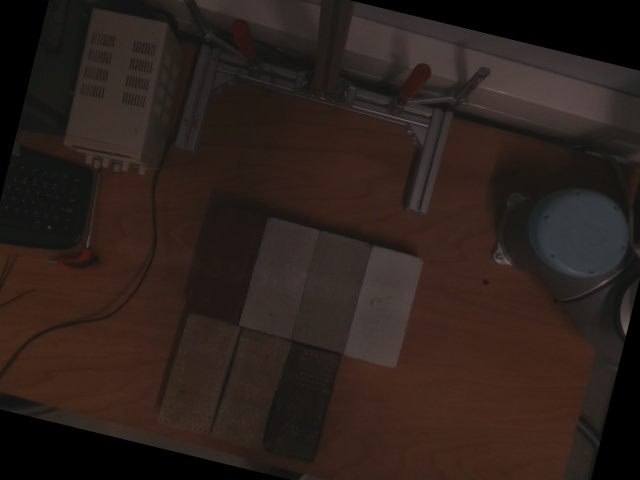brick: (289, 233, 369, 354), (156, 317, 236, 438), (238, 219, 317, 340), (209, 331, 288, 452), (342, 247, 421, 367)
